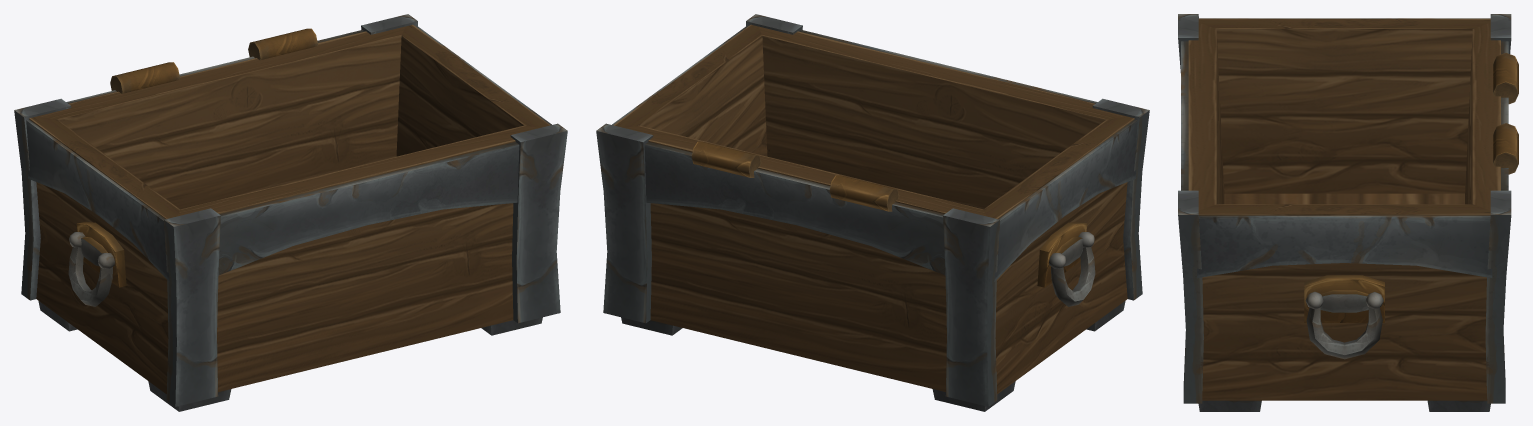
File: Chest.FBX
3 views of the same model, side by side, from view 1: azimuth 30°, elevation 25°; view 2: azimuth 150°, elevation 25°; view 3: azimuth 270°, elevation 25° (orthographic). The views are drawn at different scales.
Parts seen in each view (by area): view 1: Chest; view 2: Chest; view 3: Chest.
Boxes of the visible parts, x1=… form: Chest: x1=14, y1=14, x2=567, y2=411; Chest: x1=596, y1=14, x2=1149, y2=411; Chest: x1=1178, y1=14, x2=1518, y2=411.
Size of the model in its own units: 1173 by 553 by 787.
